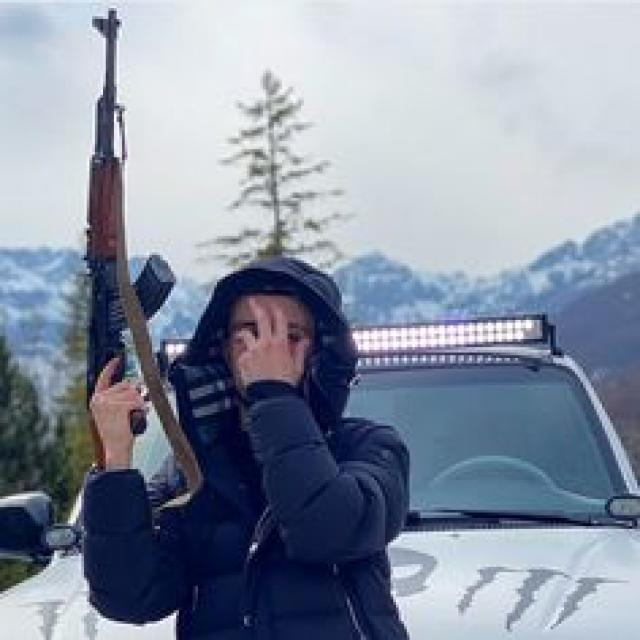ak: (66, 4, 203, 538)
